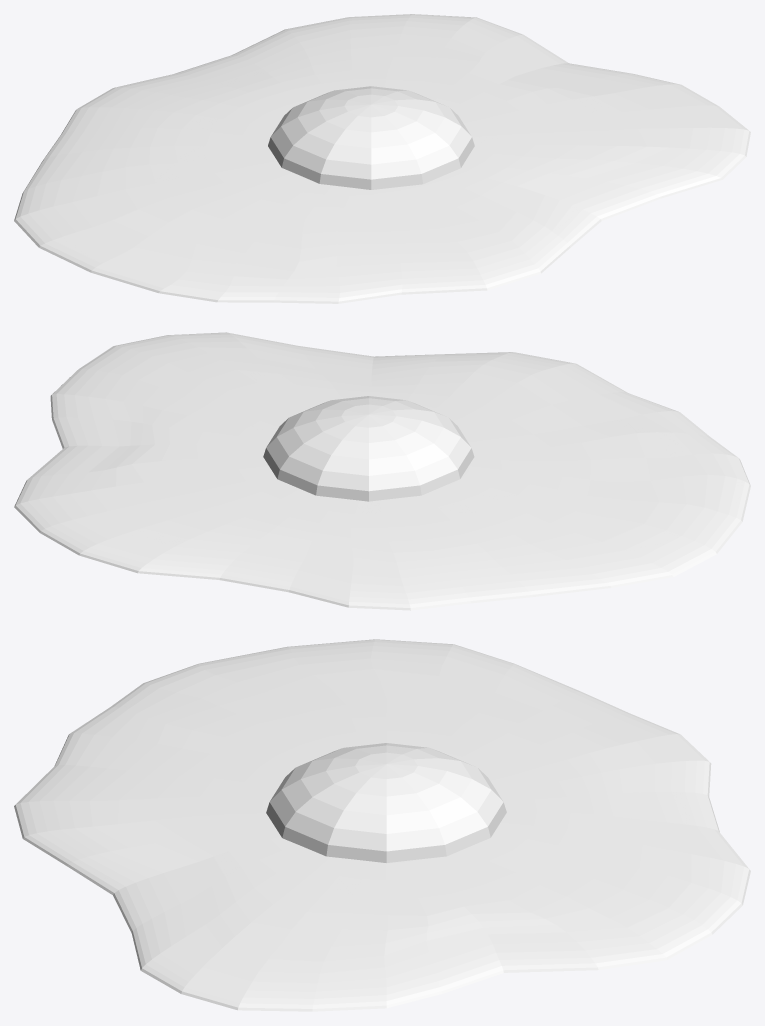
Rendered from Egg_inside.fbx.
The picture shows the model from 3 angles, top to bottom: view 1: azimuth 30°, elevation 25°; view 2: azimuth 150°, elevation 25°; view 3: azimuth 270°, elevation 25°; orthographic projection. The views are drawn at different scales.
Parts seen in each view (by area): view 1: Egg_Inside; view 2: Egg_Inside; view 3: Egg_Inside.
Part boxes in pixels (x1,y1,x2,y2): Egg_Inside: (14, 14, 750, 303); Egg_Inside: (14, 332, 750, 610); Egg_Inside: (14, 639, 750, 1011).
Bounding box in the file's own units: 725 × 608 × 61.21.
